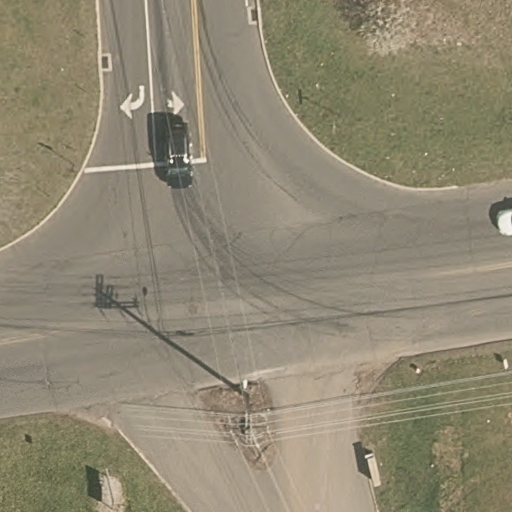DT: (226, 369, 278, 450)
